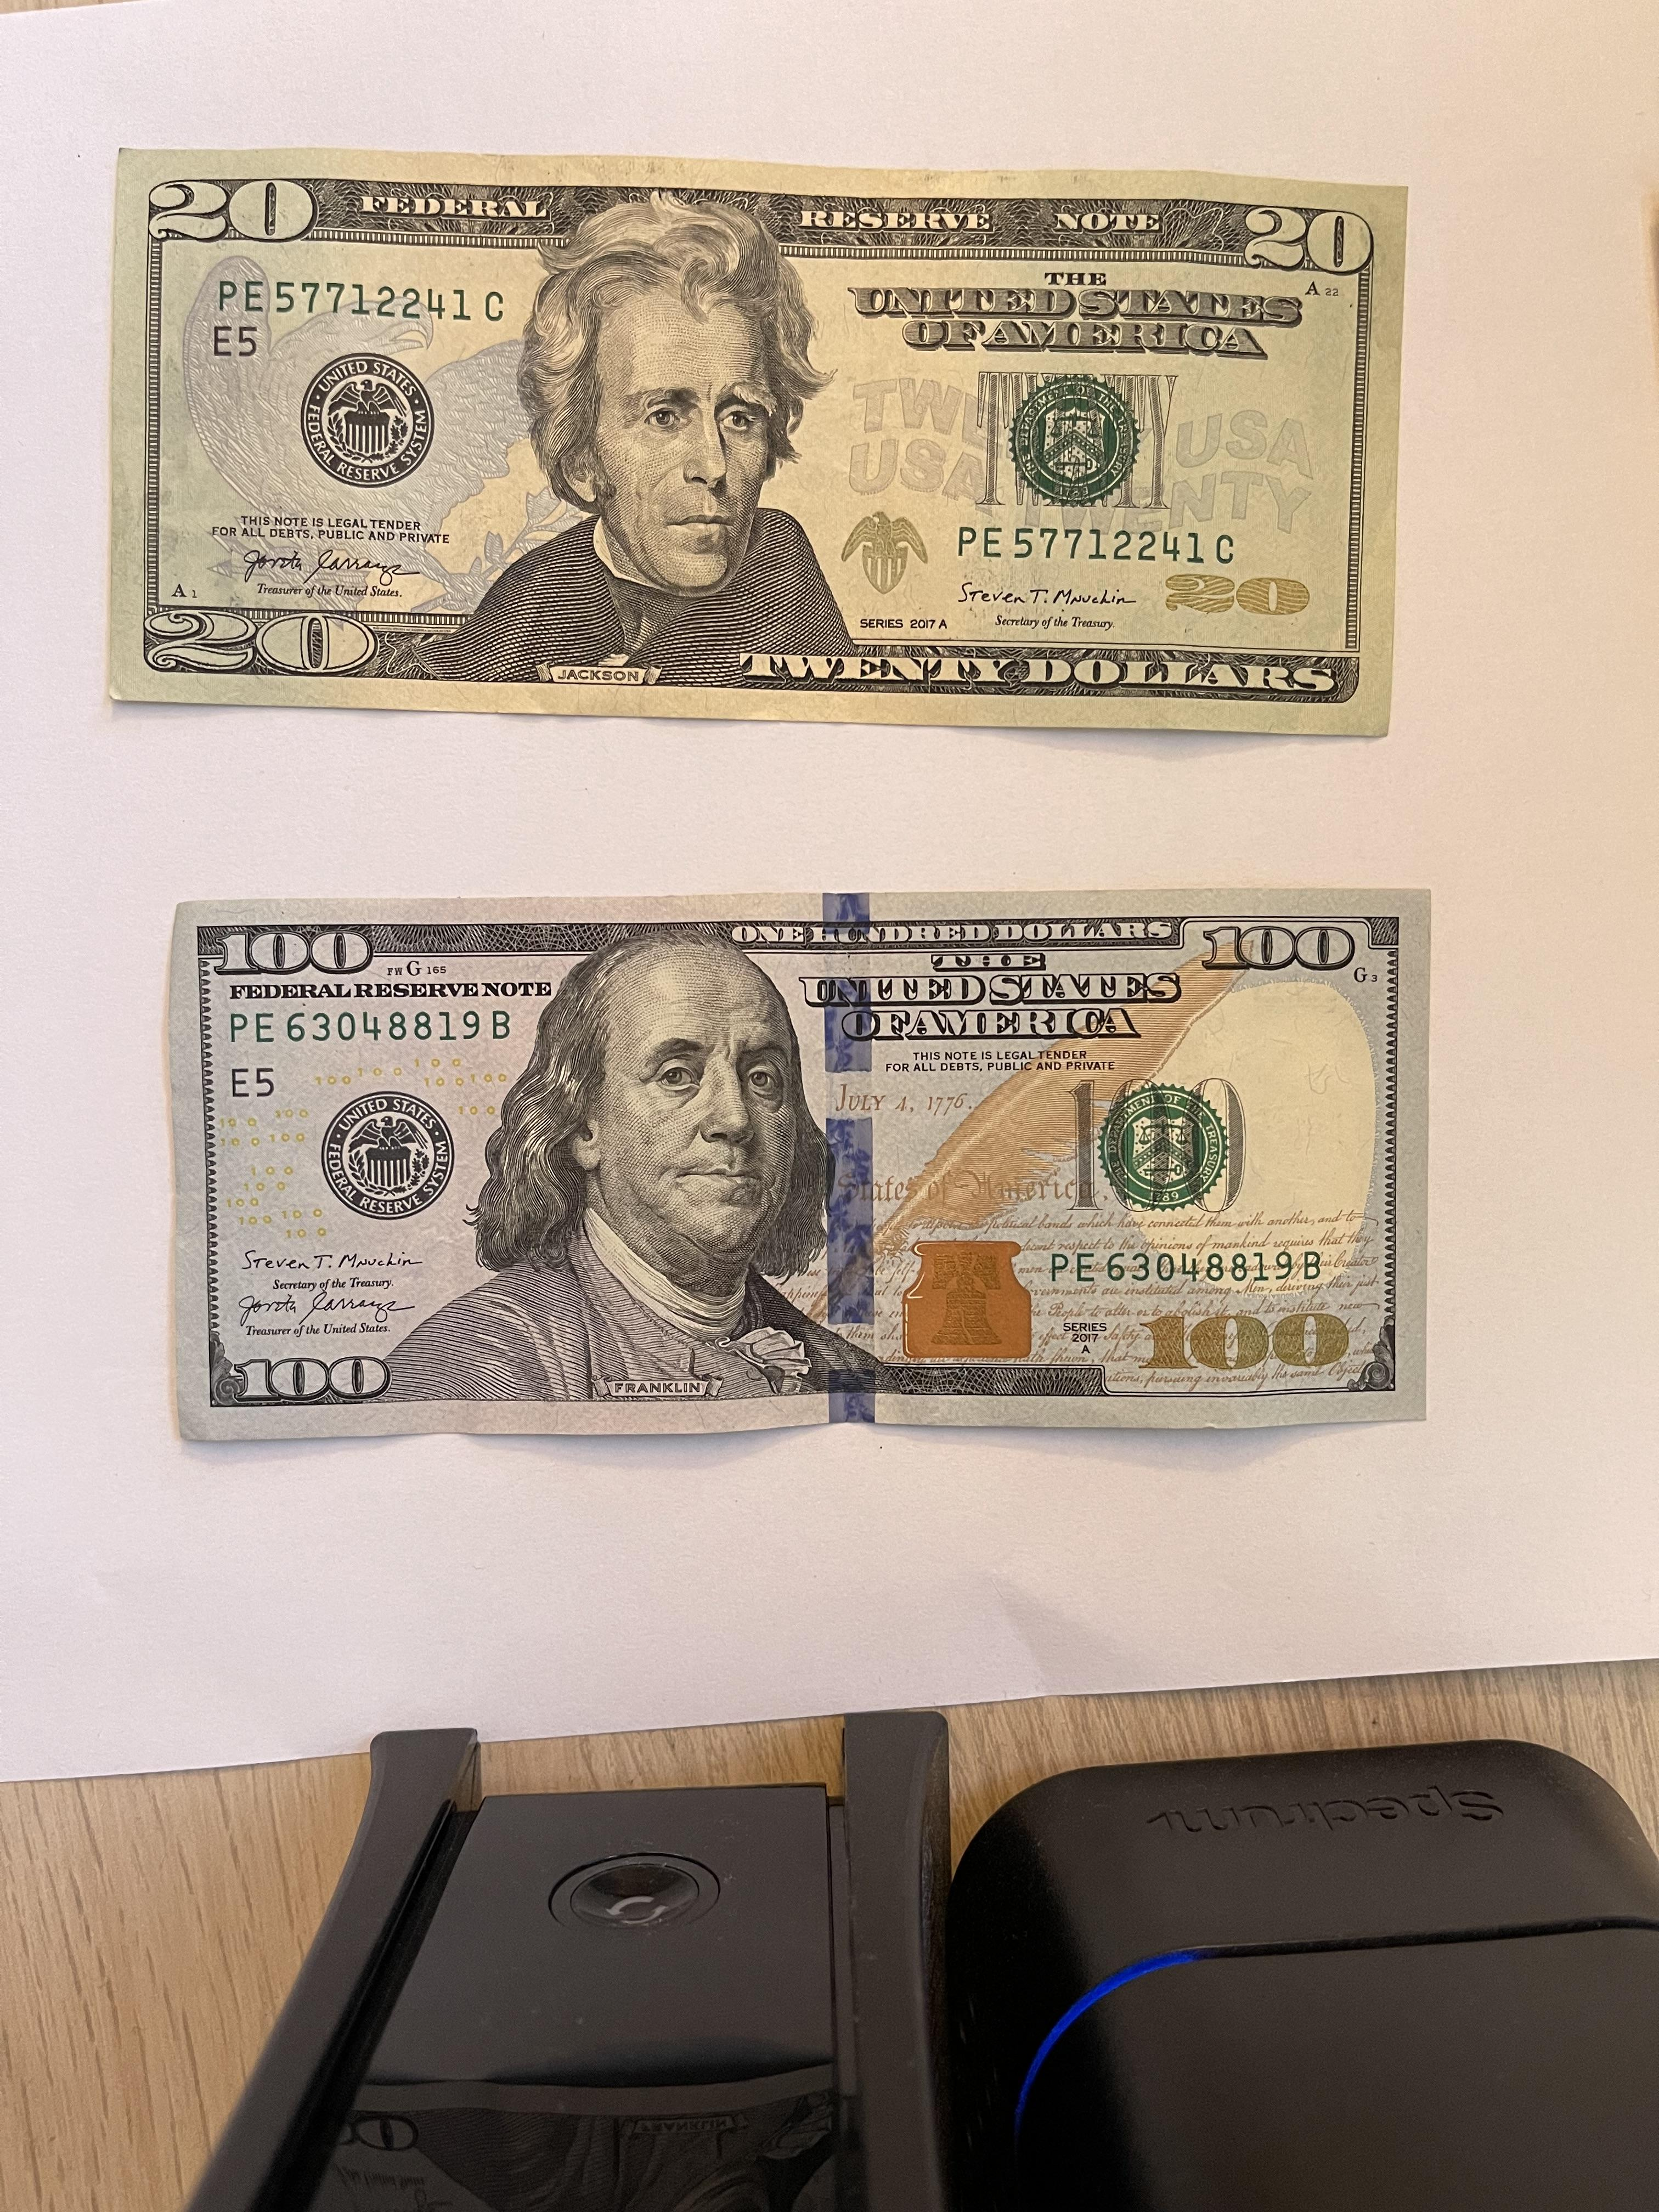HundredBill: (166, 887, 1434, 1449)
TwentyBill: (105, 145, 1412, 745)
